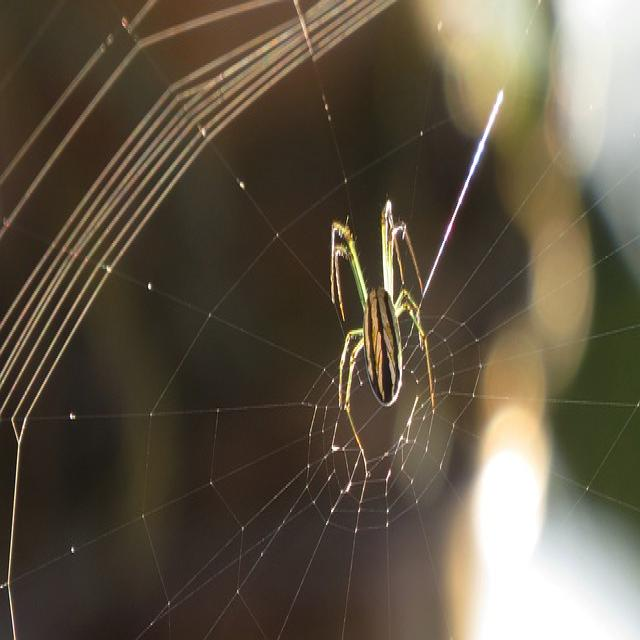spyder: (331, 199, 435, 449)
